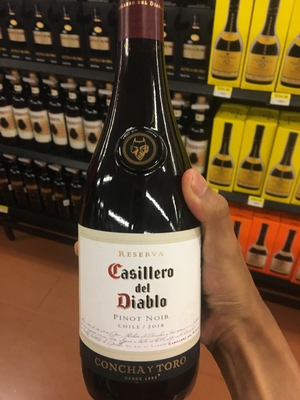casillero del diablo pinot noir: (69, 33, 214, 400)
